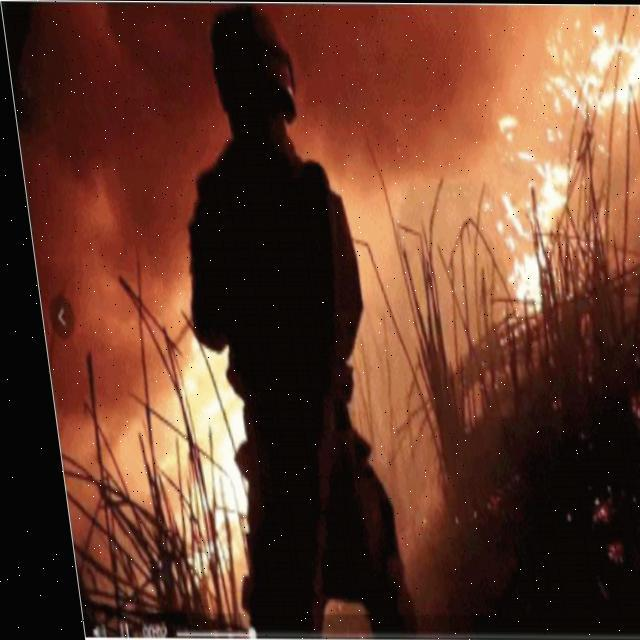Fire: (454, 17, 639, 322), (85, 269, 252, 575)
